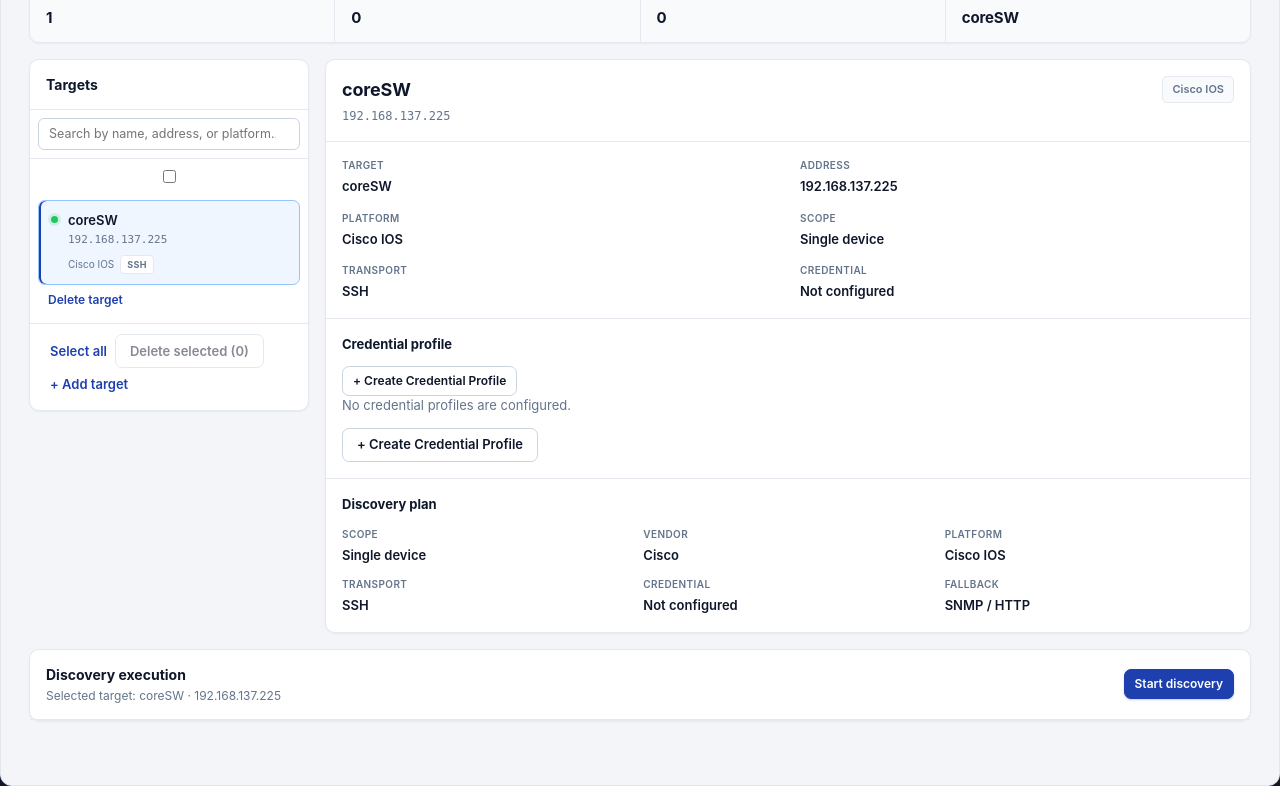
DiscoveryPage › labels collector metadata separately and shows the discovered device identity
(page scrolled)
Click the button "Start discovery".
click(1179, 684)  # box 1124,669 -> 1234,699
(page scrolled)
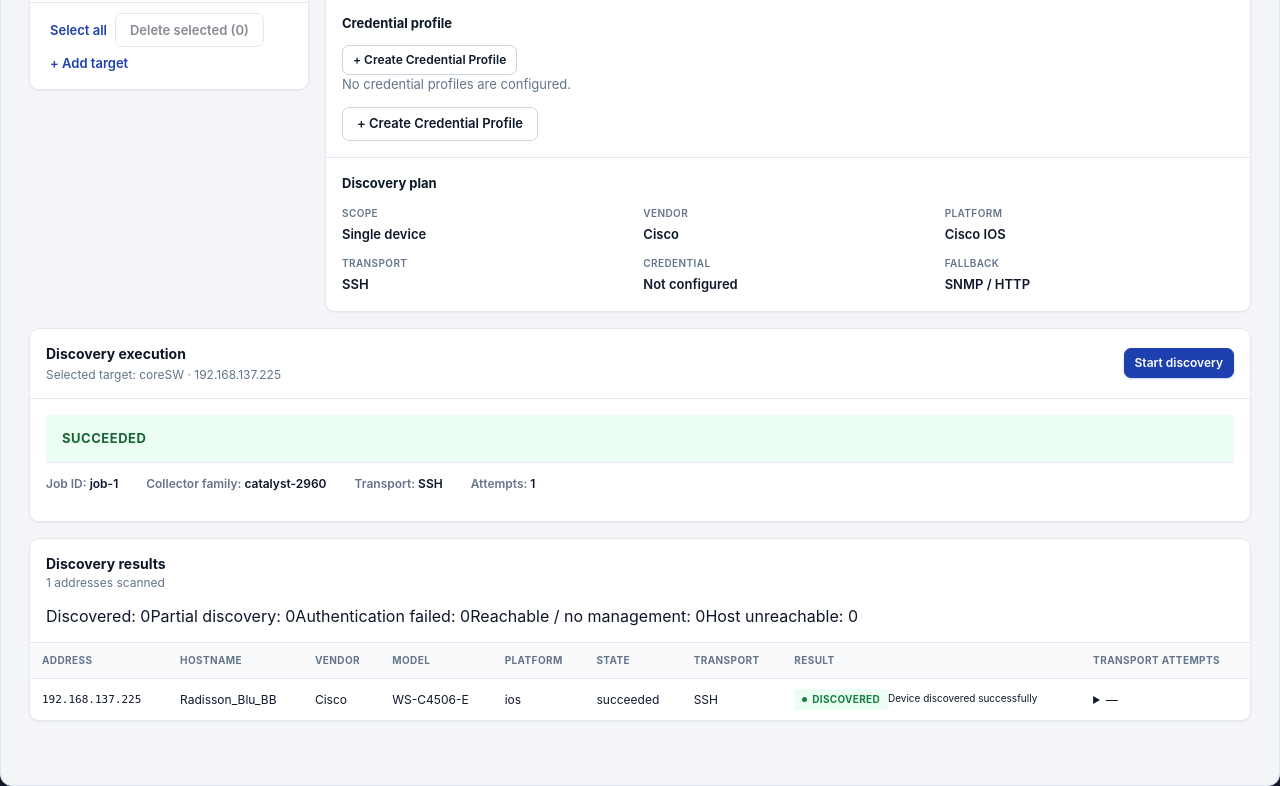
Expected: the text "Collector family" is shown, 146,476 -> 244,491
Expected: the text "WS-C4506-E" is shown, 380,679 -> 493,720
Expected: the text "Radisson_Blu_BB" is shown, 168,679 -> 303,720
